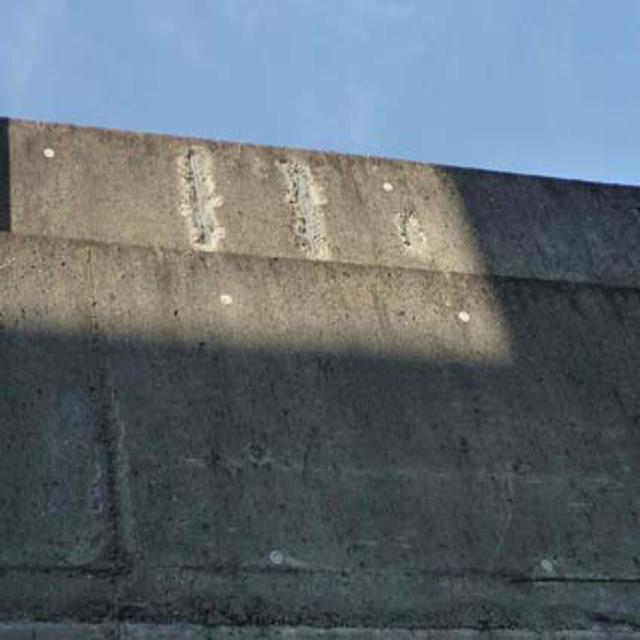spalling: (279, 149, 340, 257), (172, 150, 227, 256), (393, 193, 437, 258)
